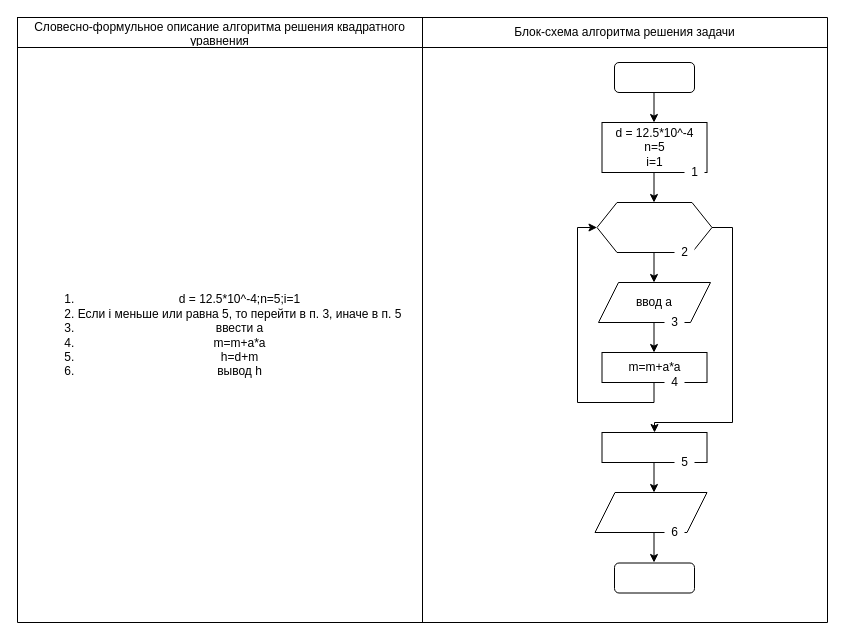
Some shapes in this 845 by 640 pixel diagram are drawn without their labels. The box of each missing label's shape, as (x1, y1, x2, y2) in pixels:
h=d+m: (601, 432, 707, 462)
i=0;5: (596, 202, 712, 252)
вывод h: (594, 492, 707, 532)
конец: (614, 562, 694, 593)
начало: (614, 62, 694, 92)
